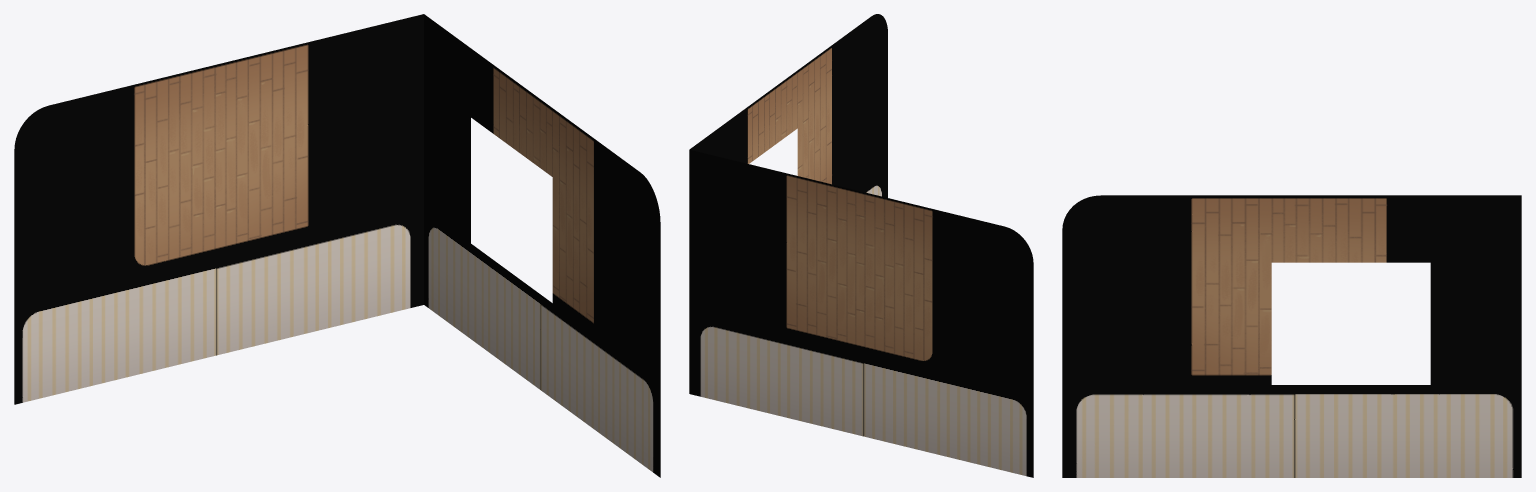
Rendered from wall.fbx.
3 renders of one model, left to right at view 1: azimuth 30°, elevation 25°; view 2: azimuth 150°, elevation 25°; view 3: azimuth 270°, elevation 25°, orthographic. The views are drawn at different scales.
Parts seen in each view (by area): view 1: wall2, wall1; view 2: wall2, wall1; view 3: wall1.
Boxes of the visible parts, box(x1,y1,x2,y2) form: wall2: box(14, 14, 423, 404); wall1: box(424, 14, 660, 477); wall2: box(689, 149, 1033, 477); wall1: box(690, 14, 887, 197); wall1: box(1062, 195, 1521, 477).
Size of the model in its own units: 999 by 678 by 999.
